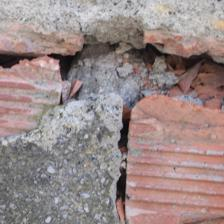Crack: (12, 84, 123, 138), (0, 179, 83, 224)
